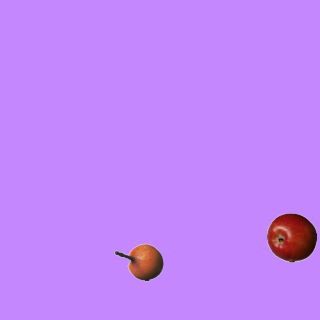Apple Braeburn: (266, 212, 316, 262)
Granadilla: (113, 237, 163, 287)
